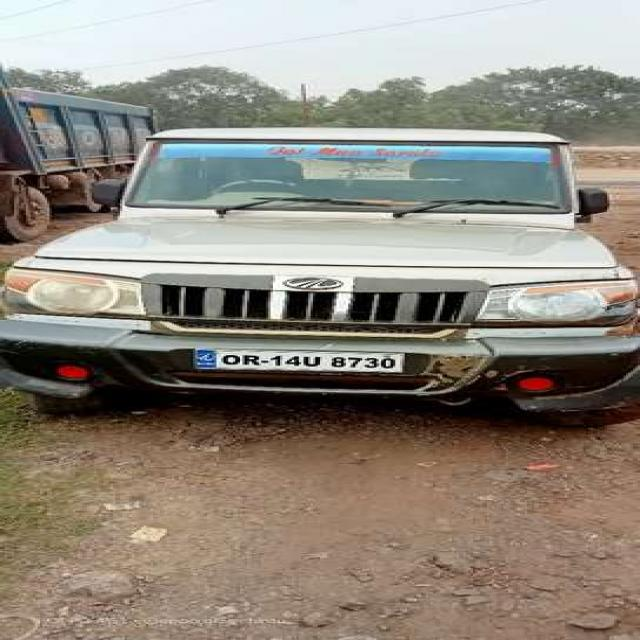Plate: (194, 351, 401, 372)
